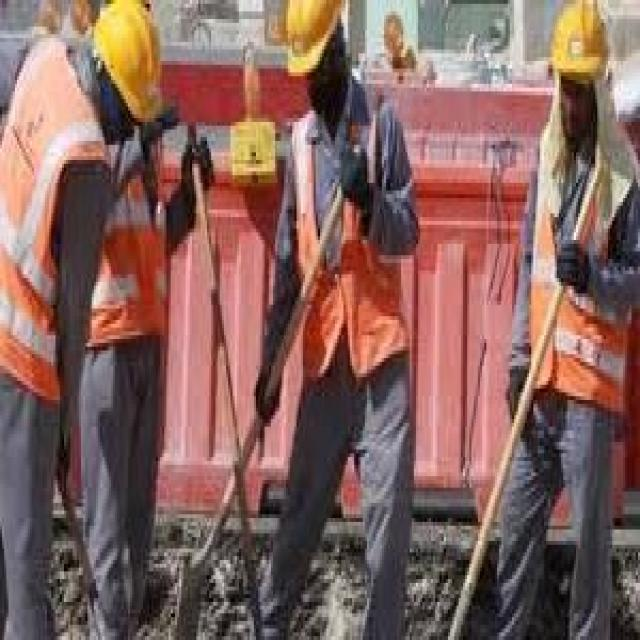Reflective-Jacket: (277, 91, 416, 400), (0, 42, 109, 415), (516, 134, 638, 430), (77, 133, 200, 377)
Safety-Helmet: (85, 0, 176, 133), (538, 0, 614, 99), (269, 0, 354, 88)
